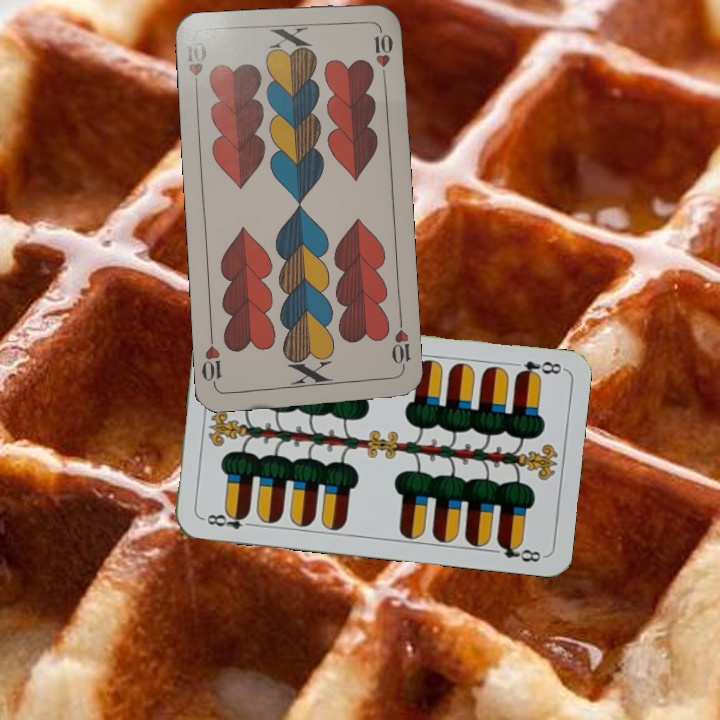E8: (198, 507, 257, 532), (512, 356, 566, 381)
H10: (182, 37, 210, 96), (387, 316, 413, 375)
